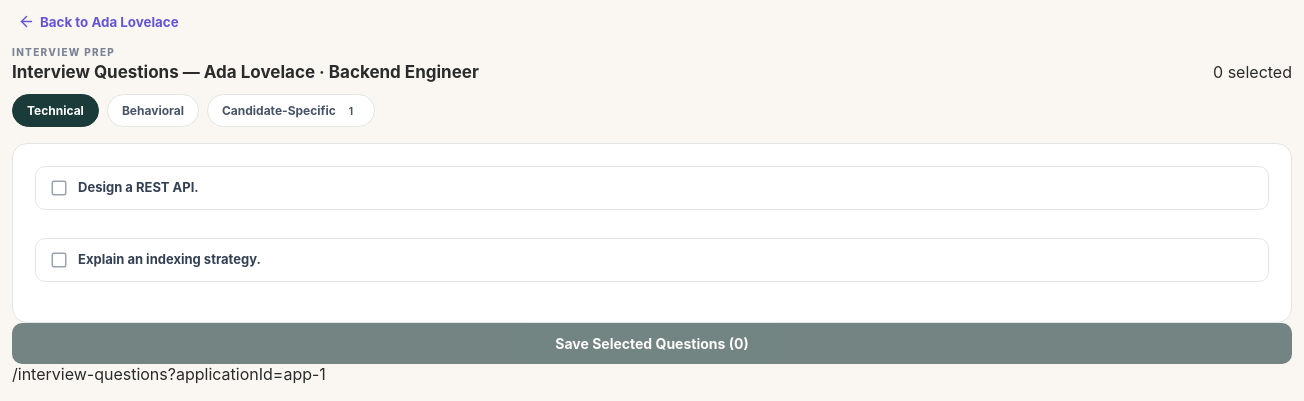
Test: InterviewQuestions (application-scoped prep) › renders banks and updates the selection count
Expected: the heading "Interview Questions — Ada Lovelace · Backend Engineer" is shown, [12,62,479,82]
Click the text "Design a REST API.": click(138, 187) [78,179,199,195]
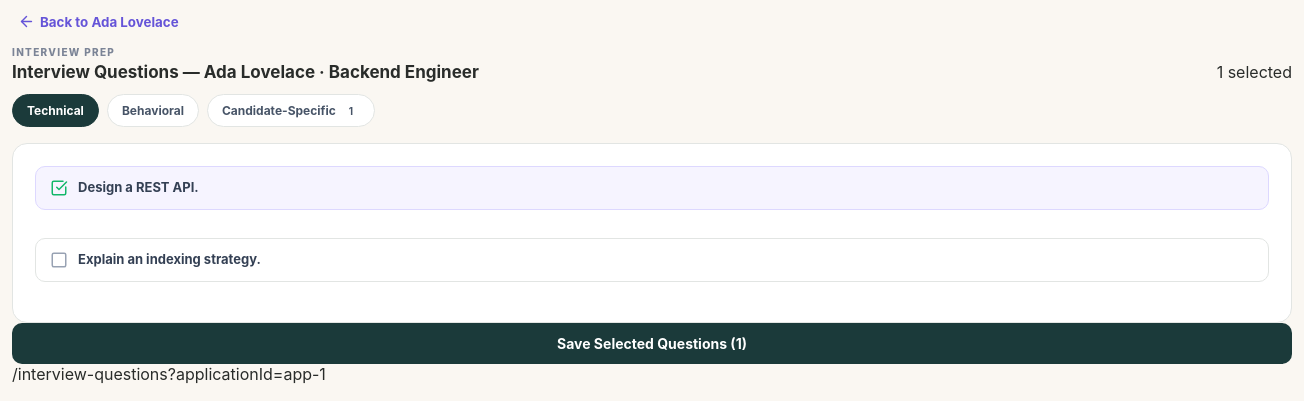
Expected: the text "1 selected" is shown, [1217,62,1292,82]
Click the button "Candidate-Specific1": click(291, 110) [207,94,375,127]
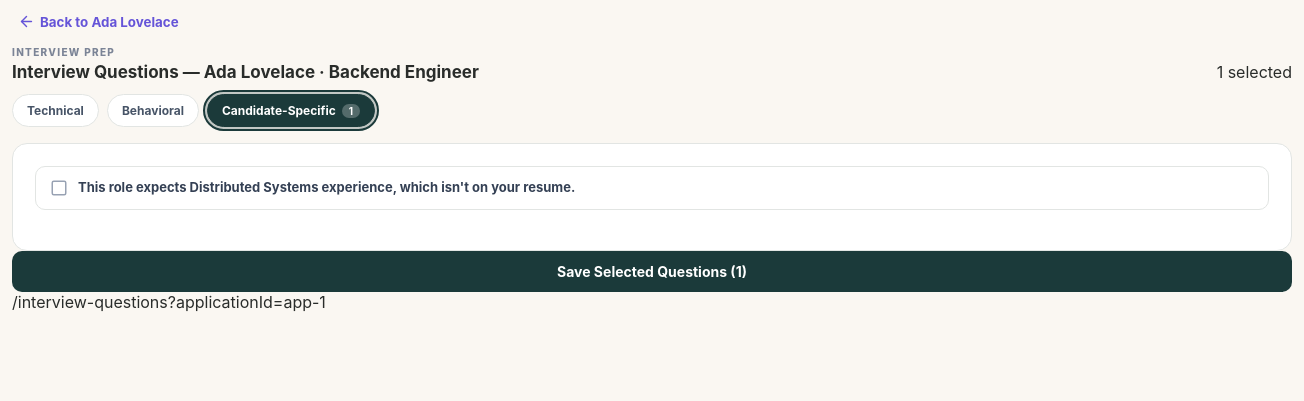
Click the text "Distributed Systems experience": click(327, 187) [78,179,575,195]
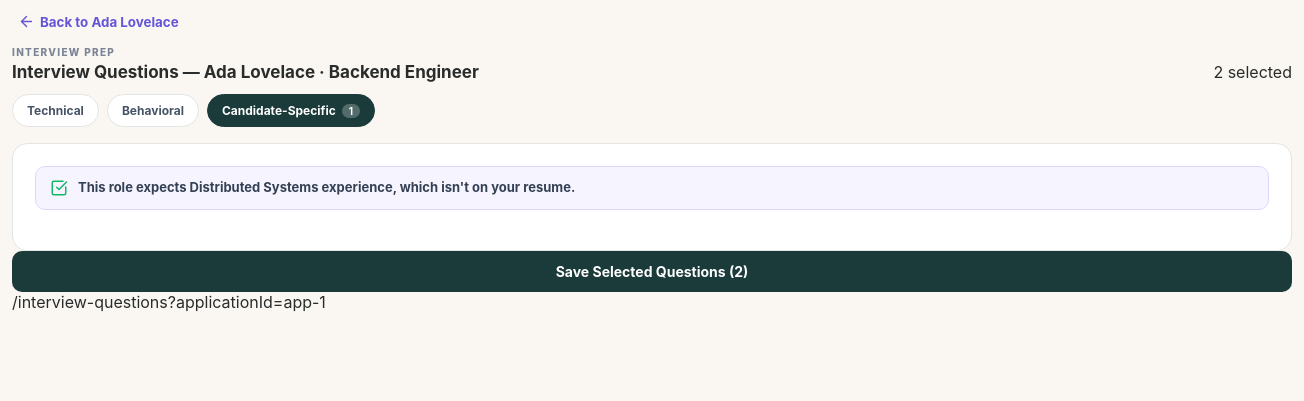
Expected: the text "2 selected" is shown, [1213,62,1292,82]
